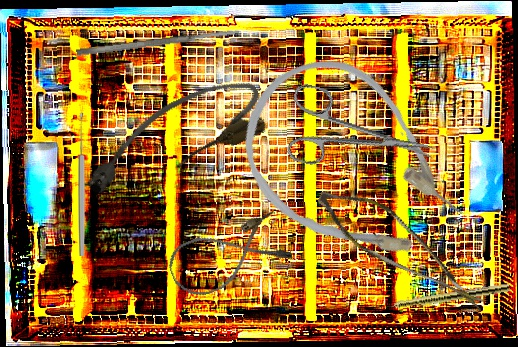Cannula: (210, 28, 493, 305), (71, 68, 274, 207), (162, 208, 295, 304)
Handpiece: (371, 281, 511, 314)
Iris Scissors: (278, 81, 444, 194)
Micro Scissor: (302, 180, 505, 312)
Spatula Surgical: (76, 28, 240, 57)
Surgical Spoon: (78, 113, 86, 256)
